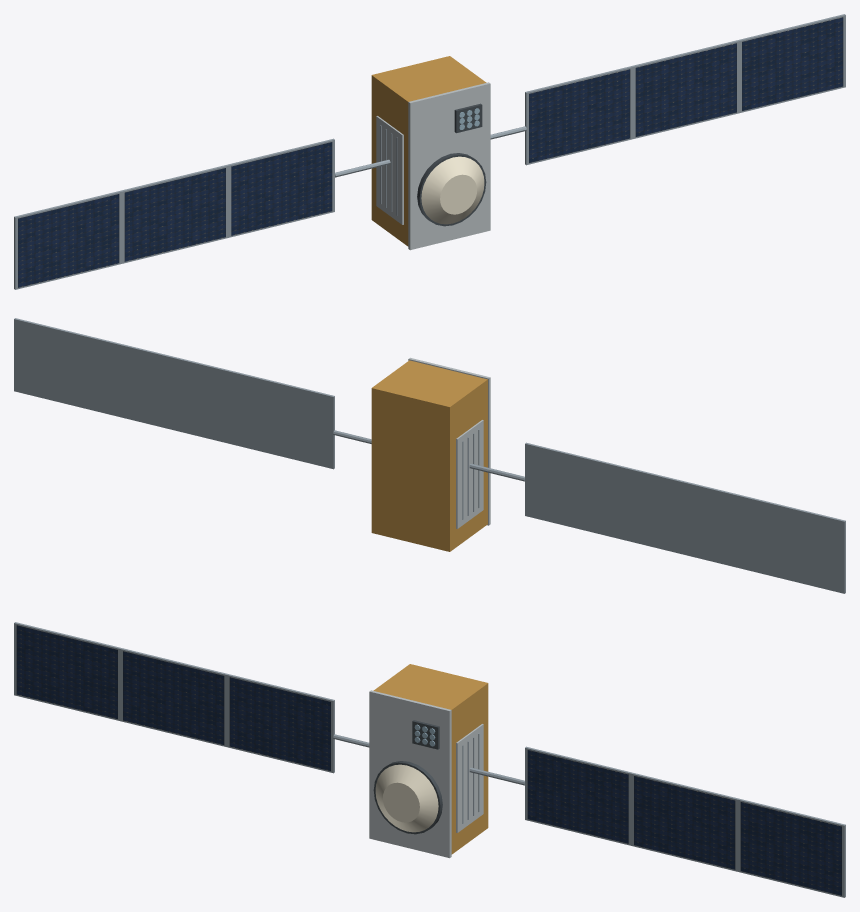
Rendered from beidou-2-igso.glb.
3 renders of one model, top to bottom at view 1: azimuth 30°, elevation 25°; view 2: azimuth 150°, elevation 25°; view 3: azimuth 330°, elevation 25°, orthographic.
Visible parts, largest first — view 1: Photovoltaic laminates (×6), Payload deck, Array frame (×6), Equipment bus, Navigation antenna cover, Radiator, Navigation antenna base; view 2: Array frame (×6), Equipment bus, Radiator, Payload deck; view 3: Photovoltaic laminates (×6), Payload deck, Array frame (×6), Equipment bus, Navigation antenna cover, Radiator, Navigation antenna base.
Boxes of the visible parts, left/top/right/bottom form: Photovoltaic laminates (×6): left=18, top=17, right=843, bottom=287; Payload deck: left=408, top=82, right=490, bottom=250; Array frame (×6): left=14, top=14, right=845, bottom=289; Equipment bus: left=371, top=56, right=486, bottom=246; Navigation antenna cover: left=421, top=156, right=484, bottom=224; Radiator: left=376, top=116, right=403, bottom=224; Navigation antenna base: left=417, top=153, right=486, bottom=226; Array frame (×6): left=14, top=318, right=845, bottom=593; Equipment bus: left=371, top=360, right=487, bottom=551; Radiator: left=456, top=420, right=483, bottom=528; Payload deck: left=408, top=357, right=490, bottom=525; Photovoltaic laminates (×6): left=16, top=625, right=841, bottom=895; Payload deck: left=369, top=690, right=451, bottom=858; Array frame (×6): left=14, top=622, right=845, bottom=897; Equipment bus: left=373, top=664, right=488, bottom=854; Navigation antenna cover: left=375, top=764, right=438, bottom=832; Radiator: left=456, top=724, right=483, bottom=832; Navigation antenna base: left=373, top=761, right=442, bottom=834.
Bounding box in the file's own units: 18 × 3.04 × 1.8.
Materials: 7 (1 with a texture image).
